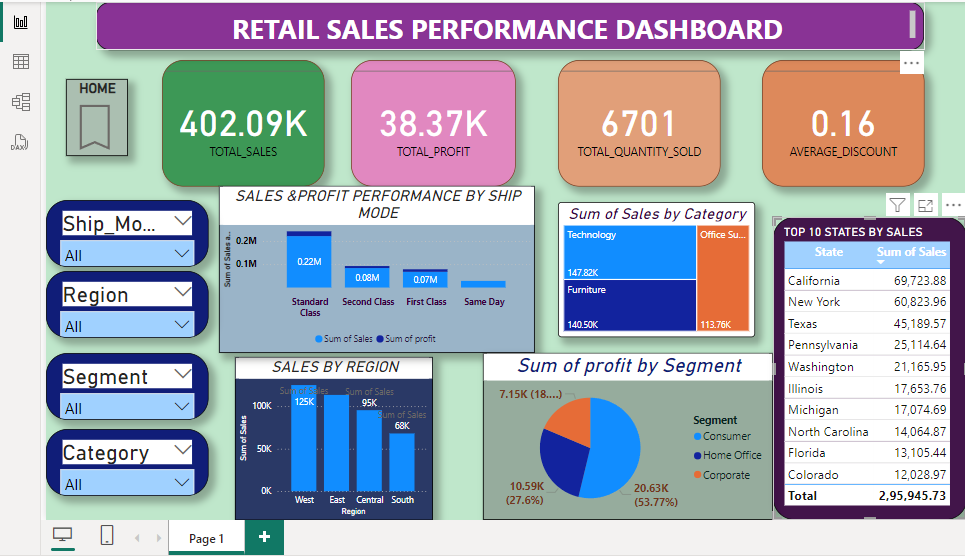

This screenshot's page, from the dashboard's own definition file:
{"tool":"powerbi","page":{"name":"Page 1","canvas":[1280,720],"ordinal":0},"visuals":[{"type":"card","fields":{"Values":["store.TOTAL_SALES"]},"box":[161.6,80.1,226,175.9],"z":0},{"type":"card","fields":{"Values":["store.TOTAL_PROFIT"]},"box":[423.3,80.1,228.8,175.9],"z":1000},{"type":"card","fields":{"Values":["store.TOTAL_QUANTITY_SOLD"]},"box":[712.2,80.1,226,175.9],"z":2000},{"type":"card","fields":{"Values":["store.AVERAGE_DISCOUNT"]},"box":[995.4,80.1,226,175.9],"z":3000},{"type":"clusteredColumnChart","title":" SALES BY REGION","fields":{"Y":["Sum(store.Sales)"],"Category":["store.Region"]},"box":[262.7,493.4,275.2,226.6],"z":4000},{"type":"columnChart","title":"SALES &PROFIT PERFORMANCE BY SHIP MODE","fields":{"Y":["Sum(store.Sales)","Sum(store.profit)"],"Category":["store.Ship_Mode"]},"box":[240.5,255.8,439.2,232.1],"z":5000},{"type":"pieChart","fields":{"Y":["Sum(store.profit)"],"Category":["store.Segment"]},"box":[607.4,487.9,403.1,232.1],"z":6000},{"type":"treemap","fields":{"Values":["Sum(store.Sales)"],"Group":["store.Category"]},"box":[711.7,278,273.8,187.6],"z":7000},{"type":"tableEx","title":"TOP 10 STATES BY SALES","fields":{"Values":["store.State","Sum(store.Sales)"]},"box":[1030,311.4,250.2,408.6],"z":8000},{"type":"slicer","fields":{"Values":["store.Segment"]},"box":[0,487.4,226,92.8],"z":9000},{"type":"slicer","fields":{"Values":["store.Category"]},"box":[0,593.6,226,92.8],"z":10000},{"type":"slicer","fields":{"Values":["store.Ship_Mode"]},"box":[0,274.9,226,92.8],"z":11000},{"type":"slicer","fields":{"Values":["store.Region"]},"box":[0,374.4,226,92.8],"z":12000},{"type":"actionButton","title":"HOME","box":[27.2,107.3,85.8,107.3],"z":13000},{"type":"textbox","box":[70.1,0,1151.3,67.2],"z":13001}]}

Visuals, with their boxes in screenshot pixels (x1, y1, x2, y2):
card - store.TOTAL_SALES: bbox=[161, 57, 323, 184]
card - store.TOTAL_PROFIT: bbox=[349, 57, 513, 184]
card - store.TOTAL_QUANTITY_SOLD: bbox=[556, 57, 718, 184]
card - store.AVERAGE_DISCOUNT: bbox=[759, 57, 921, 184]
" SALES BY REGION" clusteredColumnChart: bbox=[234, 354, 431, 516]
"SALES &PROFIT PERFORMANCE BY SHIP MODE" columnChart: bbox=[218, 183, 533, 350]
pieChart - Sum(store.profit) x store.Segment: bbox=[481, 350, 770, 516]
treemap - Sum(store.Sales) x store.Category: bbox=[556, 199, 752, 334]
"TOP 10 STATES BY SALES" tableEx: bbox=[784, 223, 963, 516]
slicer - store.Segment: bbox=[45, 350, 207, 416]
slicer - store.Category: bbox=[45, 426, 207, 492]
slicer - store.Ship_Mode: bbox=[45, 197, 207, 264]
slicer - store.Region: bbox=[45, 268, 207, 335]
"HOME" actionButton: bbox=[65, 77, 126, 154]
textbox: bbox=[96, 0, 921, 48]
